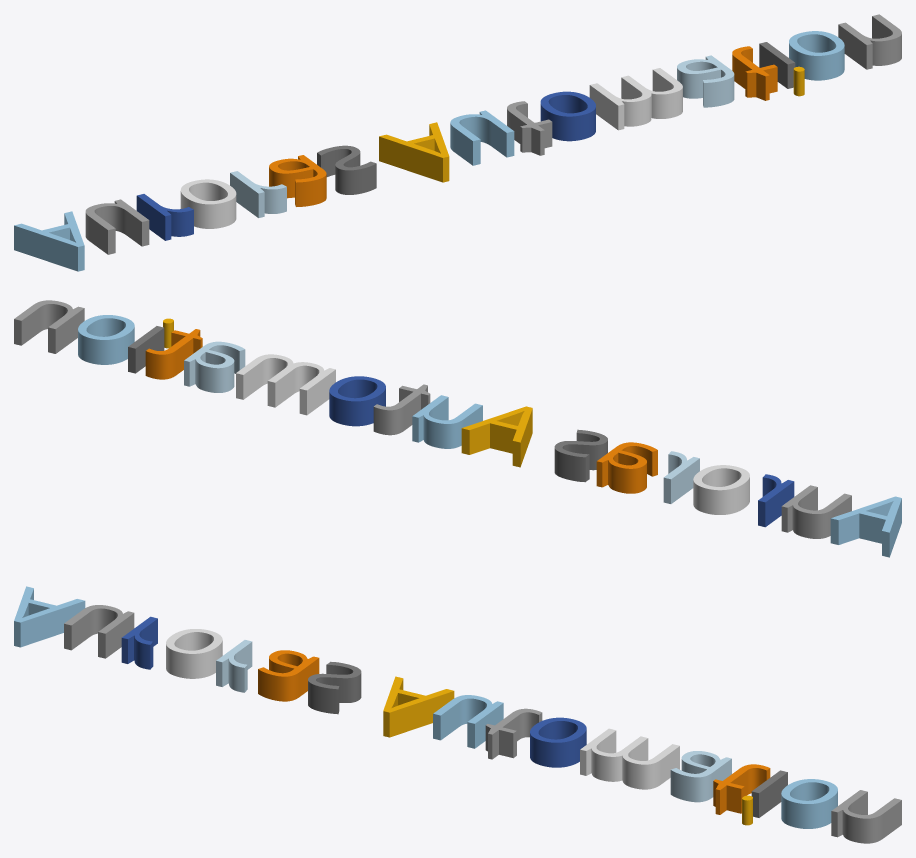
File: AurorasAutomation.obj
The picture shows the model from 3 angles, top to bottom: view 1: azimuth 30°, elevation 25°; view 2: azimuth 150°, elevation 25°; view 3: azimuth 330°, elevation 25°; orthographic projection.
Parts seen in each view (by area): view 1: mesh343, mesh284, mesh208, mesh279, mesh338, mesh196, mesh88, mesh222, mesh73, mesh23, mesh106, mesh9 (+10 smaller); view 2: mesh208, mesh279, mesh338, mesh222, mesh196, mesh88, mesh73, mesh9, mesh106, mesh266, mesh346, mesh287 (+10 smaller); view 3: mesh282, mesh341, mesh208, mesh338, mesh279, mesh308, mesh323, mesh9, mesh106, mesh38, mesh297, mesh135 (+8 smaller).
Part boxes in pixels (left/top/right/bottom): mesh343: left=14, top=225, right=77, bottom=271; mesh284: left=379, top=136, right=442, bottom=182; mesh208: left=590, top=68, right=682, bottom=105; mesh279: left=379, top=122, right=449, bottom=157; mesh338: left=14, top=211, right=84, bottom=246; mesh196: left=589, top=85, right=618, bottom=129; mesh88: left=230, top=173, right=258, bottom=217; mesh222: left=838, top=24, right=866, bottom=69; mesh73: left=136, top=196, right=165, bottom=240; mesh23: left=679, top=71, right=712, bottom=98; mesh106: left=269, top=155, right=326, bottom=182; mesh9: left=677, top=55, right=734, bottom=82; mesh208: left=236, top=354, right=335, bottom=390; mesh279: left=462, top=406, right=532, bottom=442; mesh338: left=831, top=496, right=901, bottom=532; mesh222: left=55, top=308, right=84, bottom=353; mesh196: left=307, top=369, right=335, bottom=415; mesh88: left=671, top=458, right=699, bottom=503; mesh73: left=765, top=481, right=794, bottom=526; mesh9: left=184, top=341, right=244, bottom=368; mesh106: left=597, top=442, right=657, bottom=468; mesh266: left=153, top=351, right=176, bottom=379; mesh346: left=859, top=513, right=885, bottom=543; mesh287: left=490, top=423, right=516, bottom=453; mesh282: left=389, top=691, right=454, bottom=737; mesh341: left=20, top=601, right=85, bottom=647; mesh208: left=580, top=728, right=679, bottom=764; mesh338: left=14, top=586, right=84, bottom=622; mesh279: left=383, top=676, right=453, bottom=712; mesh308: left=759, top=772, right=787, bottom=817; mesh323: left=105, top=613, right=134, bottom=658; mesh9: left=671, top=751, right=731, bottom=777; mesh106: left=258, top=650, right=318, bottom=676; mesh38: left=530, top=717, right=586, bottom=742; mesh297: left=781, top=779, right=837, bottom=803; mesh135: left=166, top=629, right=222, bottom=653.
Bounding box in the file's own units: 0.2941 × 0.008 × 0.0233.
